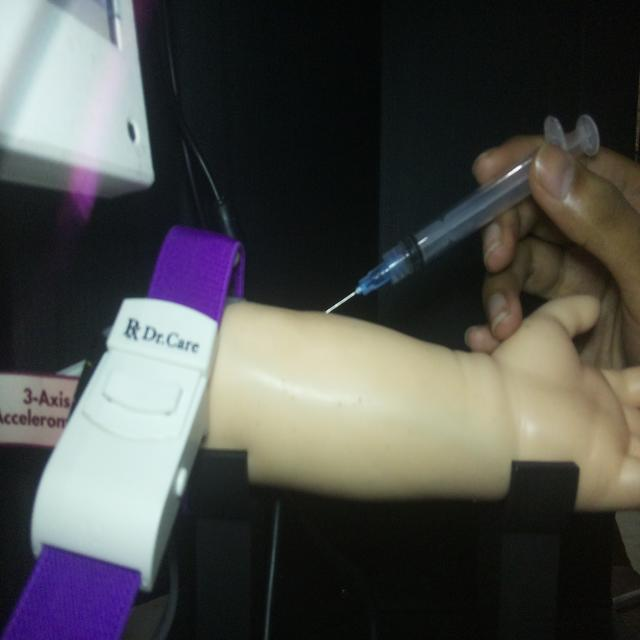27 degrees: (323, 110, 601, 316)
